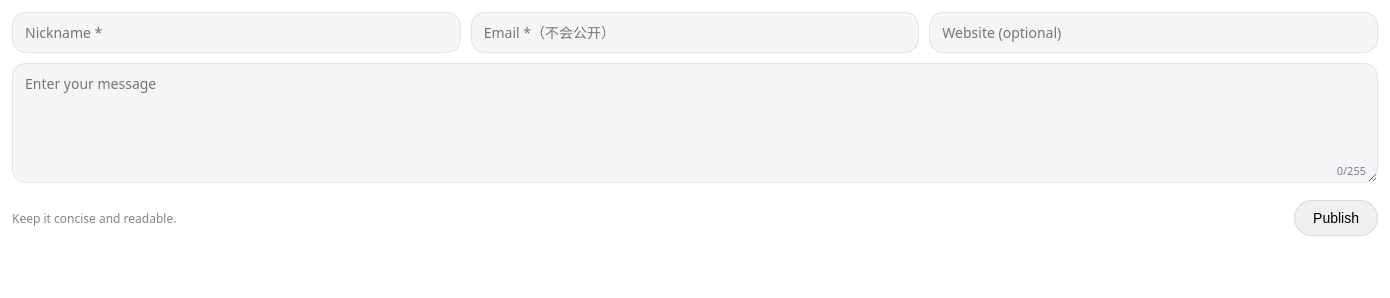
Test: CommentForm › shows the validation message on 400
The image size is (1390, 298).
Type "访客" into the field named "昵称" at (236, 32), box [12,12,461,53]
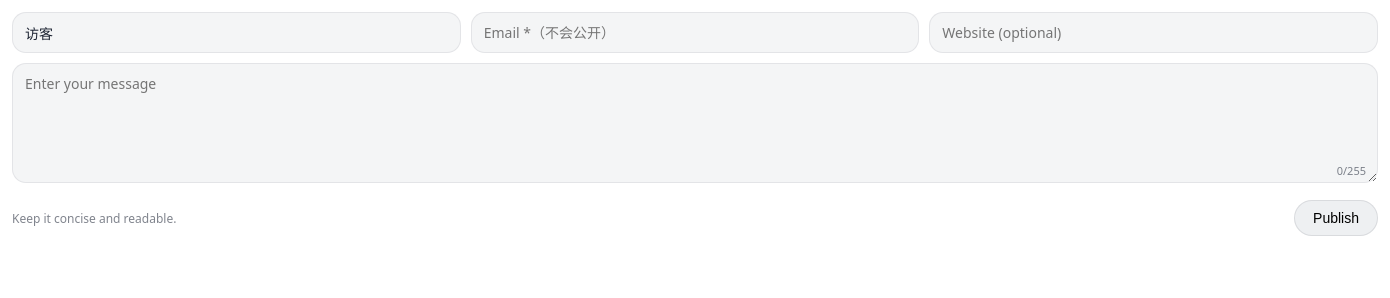
Type "a@example.com" into the field named "邮箱" at (695, 32), box [471,12,919,53]
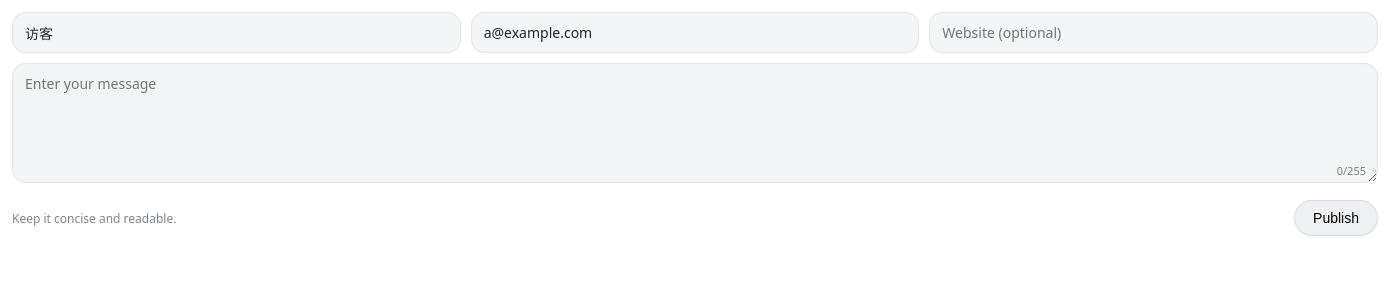
Type "写得好" into the text box named "内容" at (695, 123), box [12,63,1378,183]
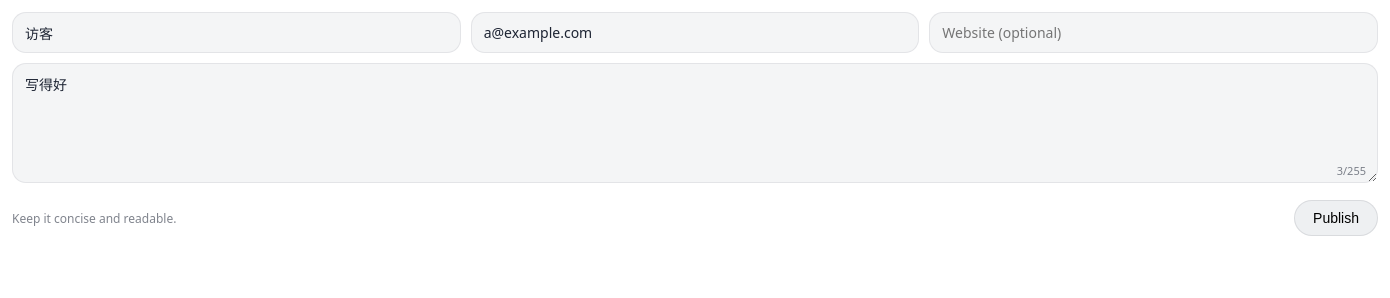
Click the button "Publish" at (1336, 218), box [1294,200,1378,236]
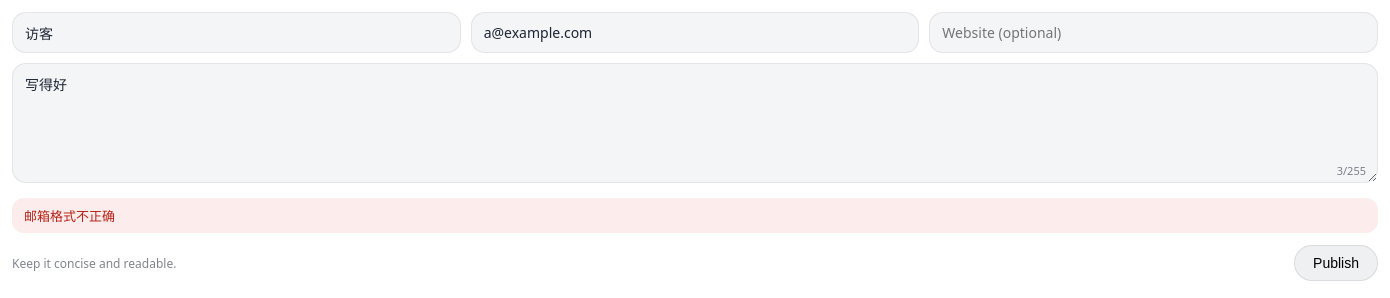
Expected: the message reads "邮箱格式不正确", [24,207,115,225]
